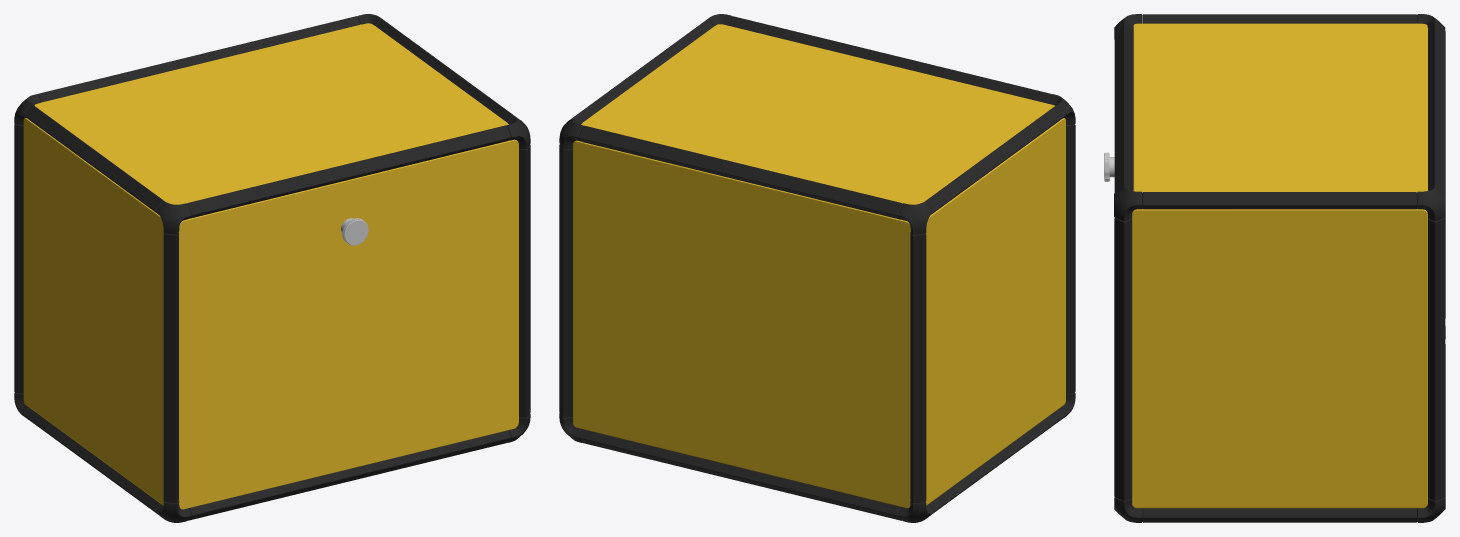
3 renders of one model, left to right at view 1: azimuth 30°, elevation 25°; view 2: azimuth 150°, elevation 25°; view 3: azimuth 270°, elevation 25°, orthographic. The views are drawn at different scales.
Visible parts, largest first — view 1: 523x374x420; view 2: 523x374x420; view 3: 523x374x420.
Part boxes in pixels (left/top/right/bottom): 523x374x420: left=14, top=14, right=530, bottom=522; 523x374x420: left=559, top=14, right=1075, bottom=522; 523x374x420: left=1104, top=14, right=1445, bottom=522.
Size of the model in its own units: 0.6007 by 0.4977 by 0.4646.
